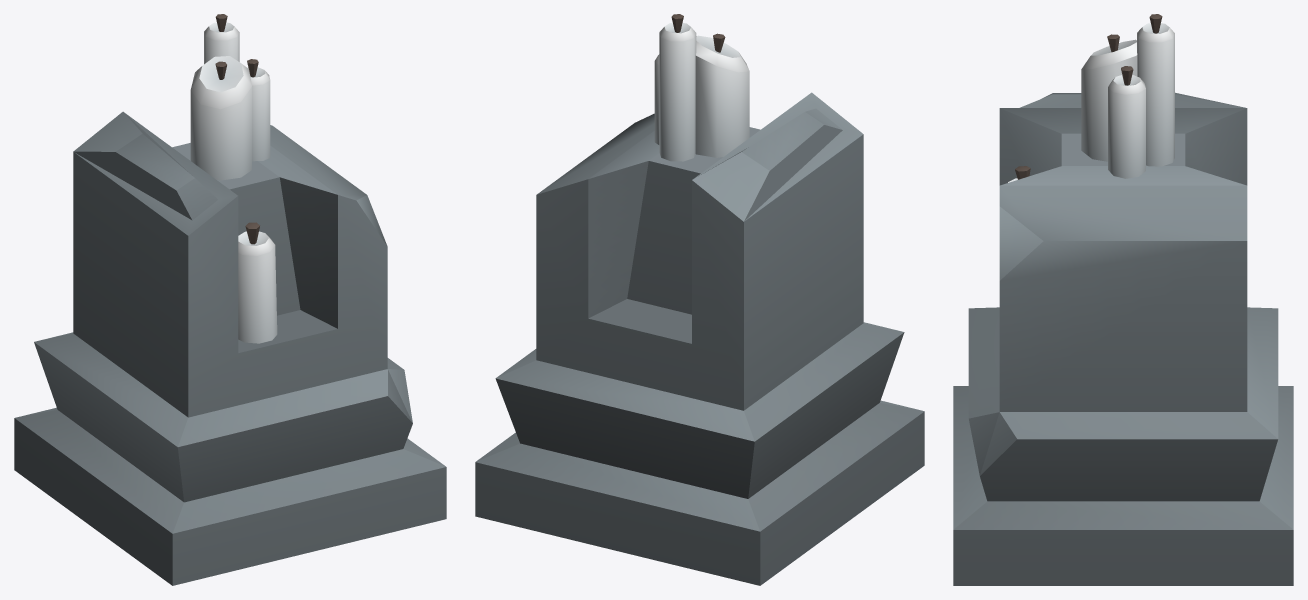
The model's file is Shrine Candles.glb.
3 views of the same model, side by side, from view 1: azimuth 30°, elevation 25°; view 2: azimuth 150°, elevation 25°; view 3: azimuth 270°, elevation 25° (orthographic). The views are drawn at different scales.
Visible parts, largest first — view 1: shrine_candles; view 2: shrine_candles; view 3: shrine_candles.
Part boxes in pixels (box(x1,y1,x2,y2)): shrine_candles: box(14, 14, 446, 585); shrine_candles: box(475, 14, 924, 585); shrine_candles: box(953, 14, 1293, 585).
Bounding box in the file's own units: 1.1 × 1.79 × 1.1.
Materials: 1 (1 with a texture image).
